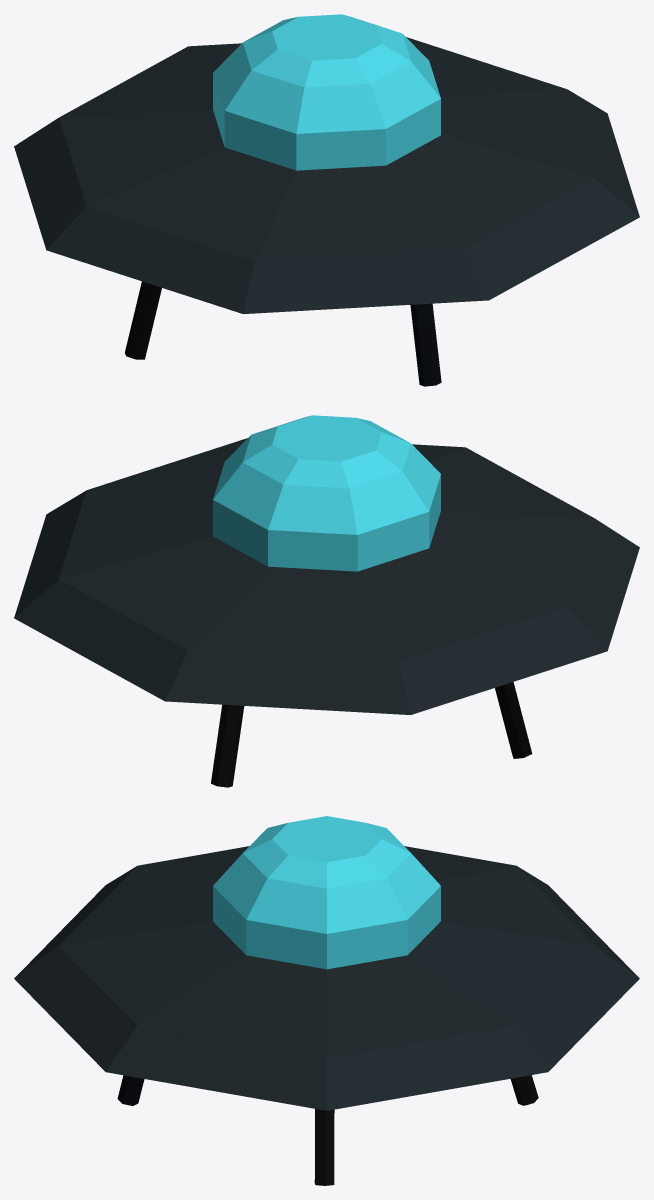
Rendered from alien.fbx.
The picture shows the model from 3 angles, top to bottom: view 1: azimuth 30°, elevation 25°; view 2: azimuth 150°, elevation 25°; view 3: azimuth 270°, elevation 25°; orthographic projection. The views are drawn at different scales.
Parts seen in each view (by area): view 1: Cylinder, Cylinder.001, Cylinder.004; view 2: Cylinder, Cylinder.002, Cylinder.004; view 3: Cylinder, Cylinder.003, Cylinder.002, Cylinder.001.
Boxes of the visible parts, <box> form: Cylinder: <box>14,14,639,313</box>; Cylinder.001: <box>410,303,441,386</box>; Cylinder.004: <box>125,281,161,359</box>; Cylinder: <box>14,415,639,714</box>; Cylinder.002: <box>211,704,244,787</box>; Cylinder.004: <box>495,682,532,758</box>; Cylinder: <box>14,816,639,1110</box>; Cylinder.003: <box>314,1109,334,1185</box>; Cylinder.002: <box>510,1075,538,1105</box>; Cylinder.001: <box>117,1075,144,1105</box>.
Size of the model in its own units: 842 by 391 by 842.
